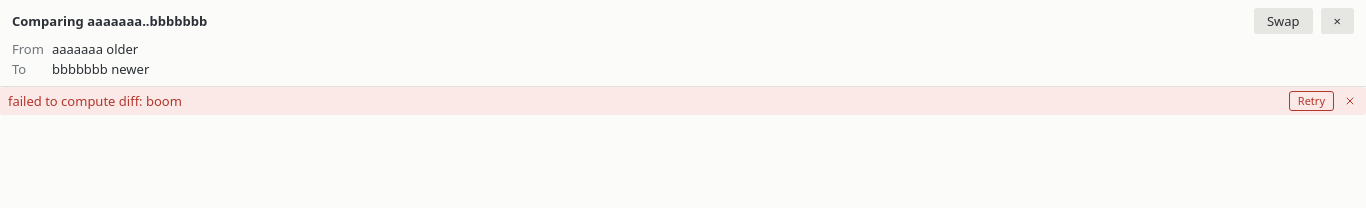
Scenario: CompareDiffPane › a file-list error retries the file list
Step 1. Click the button "Retry" → (1311, 101), box [1289,91,1334,111]
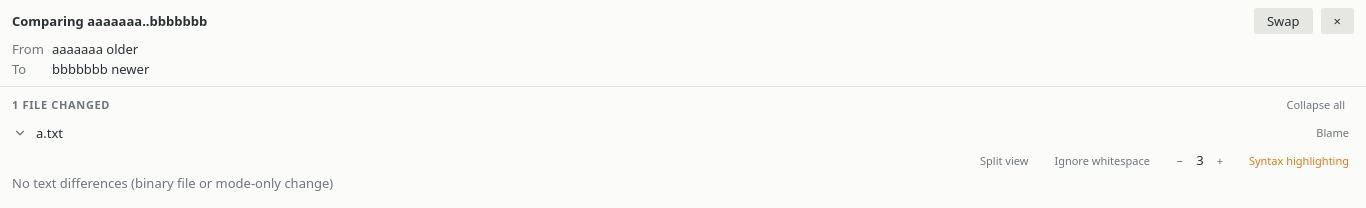
Result: the text "1 file changed" is shown at [12,97,110,112]
